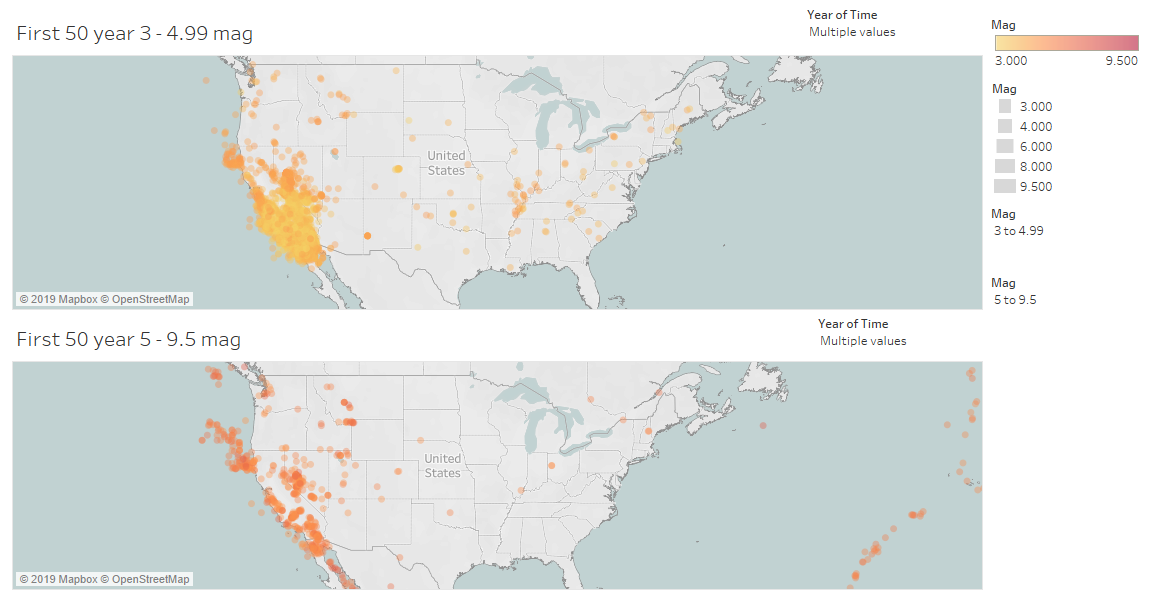

The dashboard page shown, as its layout file describes it:
{"tool":"tableau","page":{"name":"First 50 Year","canvas":[1000,1000],"units":"permille","ordinal":1},"visuals":[{"type":"filter","title":"First 50 year 3 - 4.99 mag","param":"[federated.14g24vn1bp0nln18c534e06es7gj].[yr:time:ok]","box":[698.7,8.3,138.5,79.7]},{"type":"worksheet","title":"First 50 year 3 - 4.99 mag","mark":"Multipolygon","rows":["lon"],"cols":["lat"],"box":[6.9,13.3,847.6,507.8]},{"type":"legend","title":"First 50 year 3 - 4.99 mag","param":"[federated.14g24vn1bp0nln18c534e06es7gj].[sum:mag:qk]","box":[854.5,13.3,138.5,108]},{"type":"legend","title":"First 50 year 3 - 4.99 mag","param":"[federated.14g24vn1bp0nln18c534e06es7gj].[sum:mag:qk]","box":[854.5,121.3,138.5,209.3]},{"type":"filter","title":"First 50 year 3 - 4.99 mag","param":"[federated.14g24vn1bp0nln18c534e06es7gj].[none:mag:qk]","box":[854.5,330.6,138.5,114.6]},{"type":"filter","title":"First 50 year 5 - 9.5 mag","param":"[federated.14g24vn1bp0nln18c534e06es7gj].[none:mag:qk]","box":[854.5,445.2,138.5,114.6]},{"type":"worksheet","title":"First 50 year 5 - 9.5 mag","mark":"Multipolygon","rows":["lon"],"cols":["lat"],"box":[6.9,521.1,847.6,465.6]},{"type":"filter","title":"First 50 year 5 - 9.5 mag","param":"[federated.14g24vn1bp0nln18c534e06es7gj].[yr:time:ok]","box":[708.2,521.6,138.5,76.4]}]}

Visuals, with their boxes on the dashboard's canvas, which has no fixed pixel size, in thousandths of its width and height (x1, y1, x2, y2). These are canvas units, not pixel positions in the 1155x602 screenshot, which may show the page scaled, cropped or inside an application window:
"First 50 year 3 - 4.99 mag" filter: 699,8,837,88
"First 50 year 3 - 4.99 mag" worksheet (Multipolygon marks): 7,13,854,521
"First 50 year 3 - 4.99 mag" legend: 854,13,993,121
"First 50 year 3 - 4.99 mag" legend: 854,121,993,331
"First 50 year 3 - 4.99 mag" filter: 854,331,993,445
"First 50 year 5 - 9.5 mag" filter: 854,445,993,560
"First 50 year 5 - 9.5 mag" worksheet (Multipolygon marks): 7,521,854,987
"First 50 year 5 - 9.5 mag" filter: 708,522,847,598
